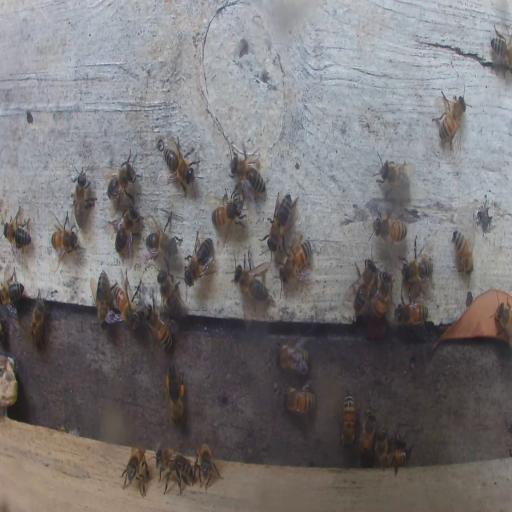bee: (433, 89, 468, 153), (159, 135, 196, 192), (156, 446, 194, 497), (105, 152, 139, 203), (230, 142, 264, 192), (234, 254, 270, 301), (268, 191, 295, 251), (349, 257, 376, 316), (184, 232, 214, 284), (400, 238, 432, 286), (281, 236, 312, 284), (50, 210, 79, 261), (157, 270, 186, 320), (210, 188, 243, 231), (375, 156, 409, 196), (112, 279, 140, 327), (166, 360, 186, 427), (145, 219, 180, 257), (113, 206, 140, 255), (145, 303, 173, 350), (70, 168, 94, 222), (27, 288, 48, 349), (369, 270, 393, 322), (274, 340, 310, 374), (451, 228, 475, 276), (490, 24, 512, 76), (122, 449, 148, 490), (281, 386, 315, 416), (196, 440, 218, 486), (92, 270, 110, 325), (358, 406, 376, 459), (373, 214, 406, 242), (394, 300, 428, 326), (340, 394, 356, 446), (3, 218, 32, 246), (492, 302, 511, 343), (1, 277, 25, 309), (384, 444, 409, 467), (376, 426, 388, 466), (0, 319, 5, 339)
